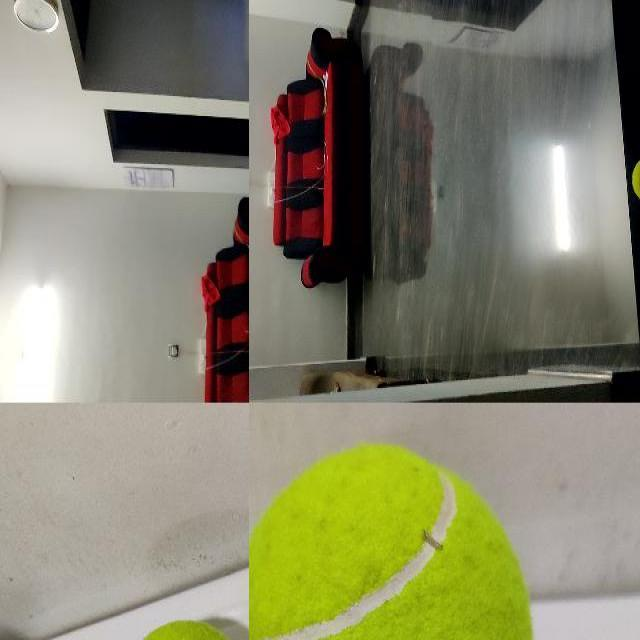tennis-ball: (249, 439, 537, 639), (631, 153, 639, 203)
